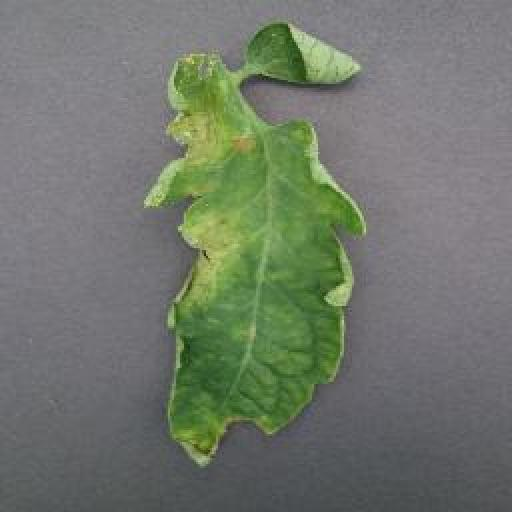disease_tomato: (140, 52, 368, 467)
